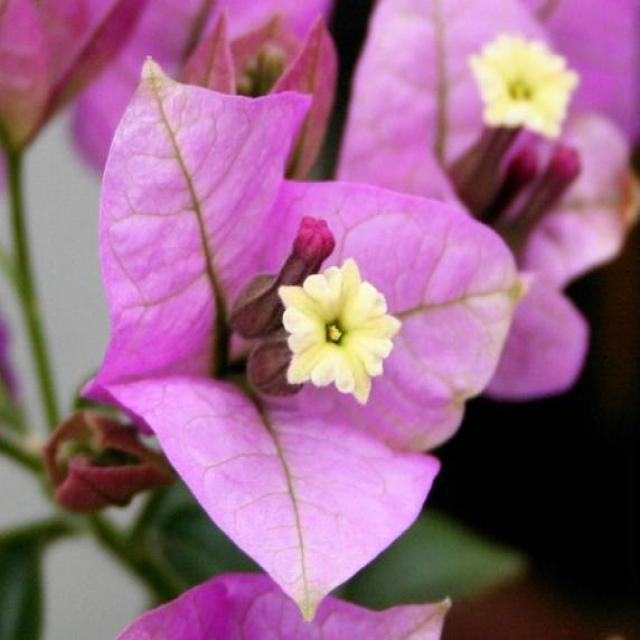bougainvillea: (40, 26, 566, 619)
